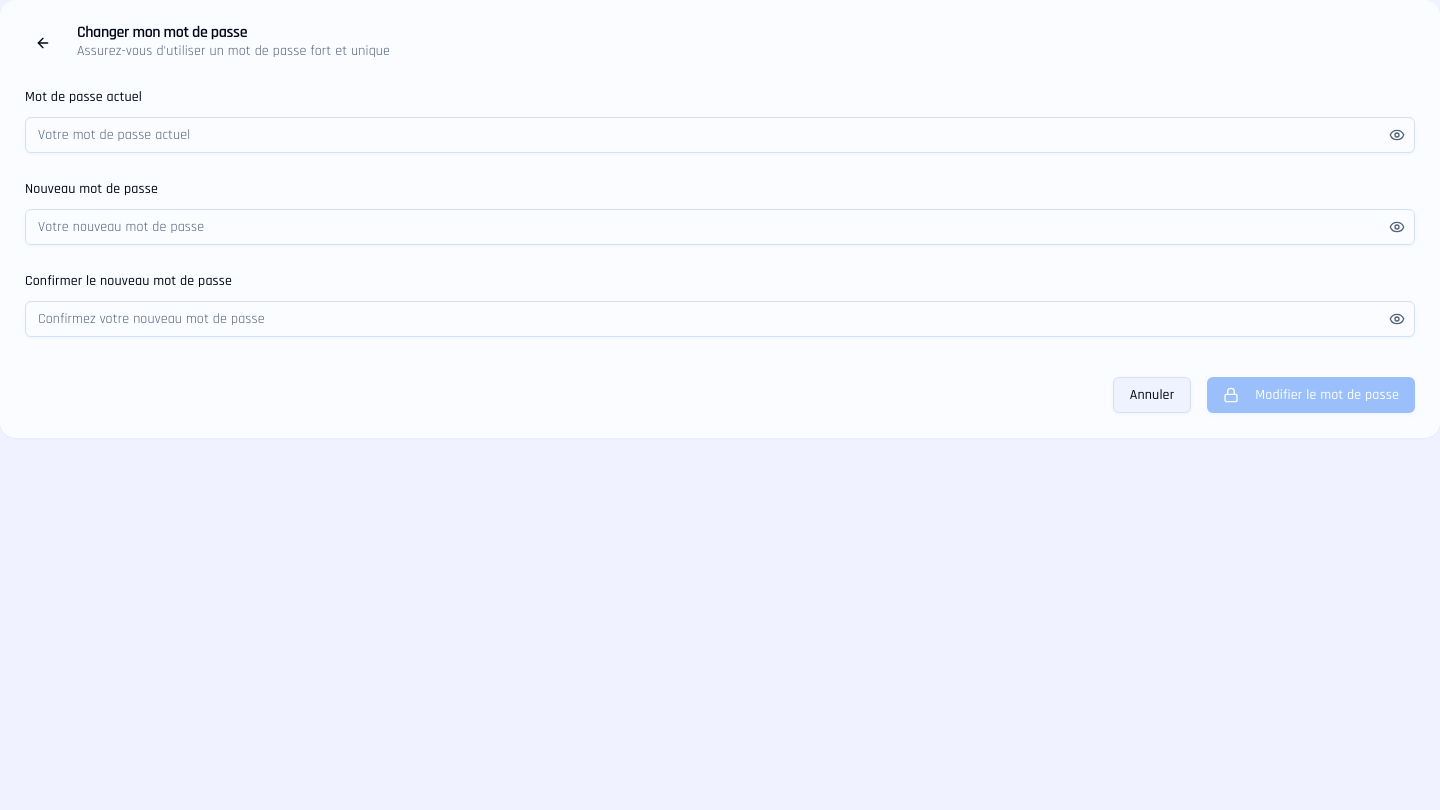
Test: ChangePasswordForm › Validation côté client › should show error when currentPassword is empty on submit
// Fill only new passwords to make form dirty
Type "NewPass123!" into the password field with test id "input-newPassword" at point(720, 227), box [25, 209, 1415, 245]
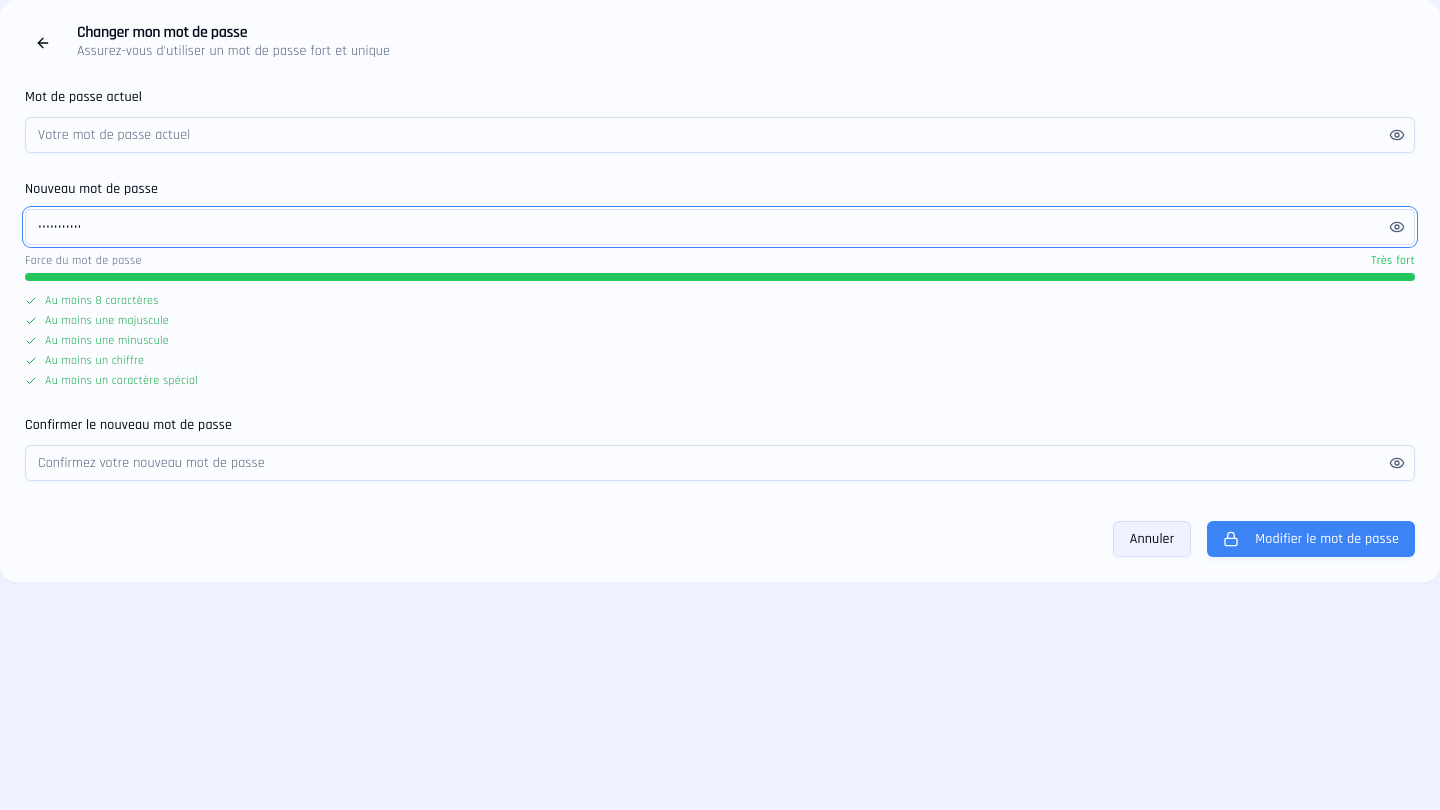
Type "NewPass123!" into the password field with test id "input-confirmNewPassword" at point(720, 463), box [25, 445, 1415, 481]
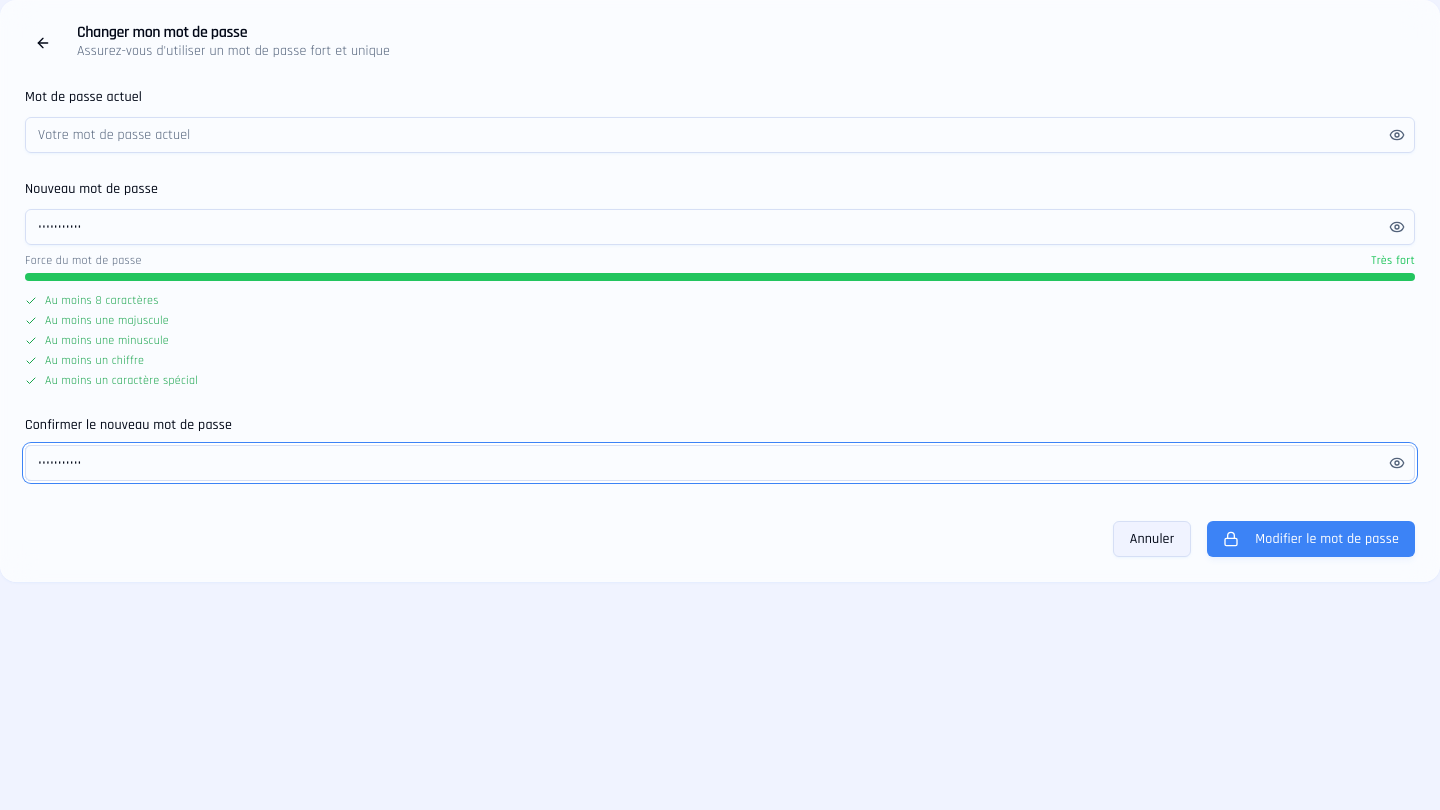
// Try to submit
Click the button with test id "submit-button" at point(1311, 539), box [1207, 521, 1415, 557]
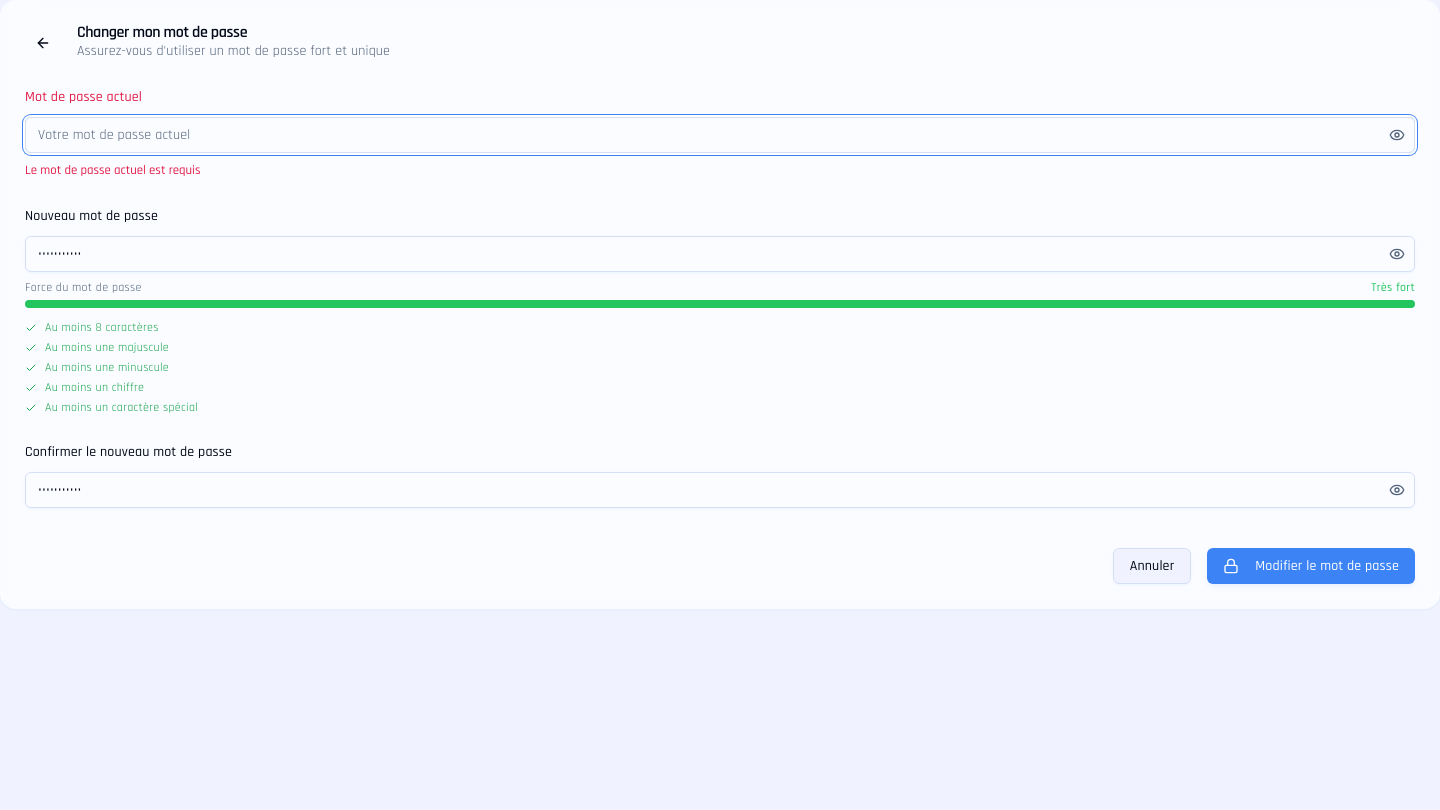
Result: the text "Le mot de passe actuel est requis" is shown at [25, 162, 200, 178]
